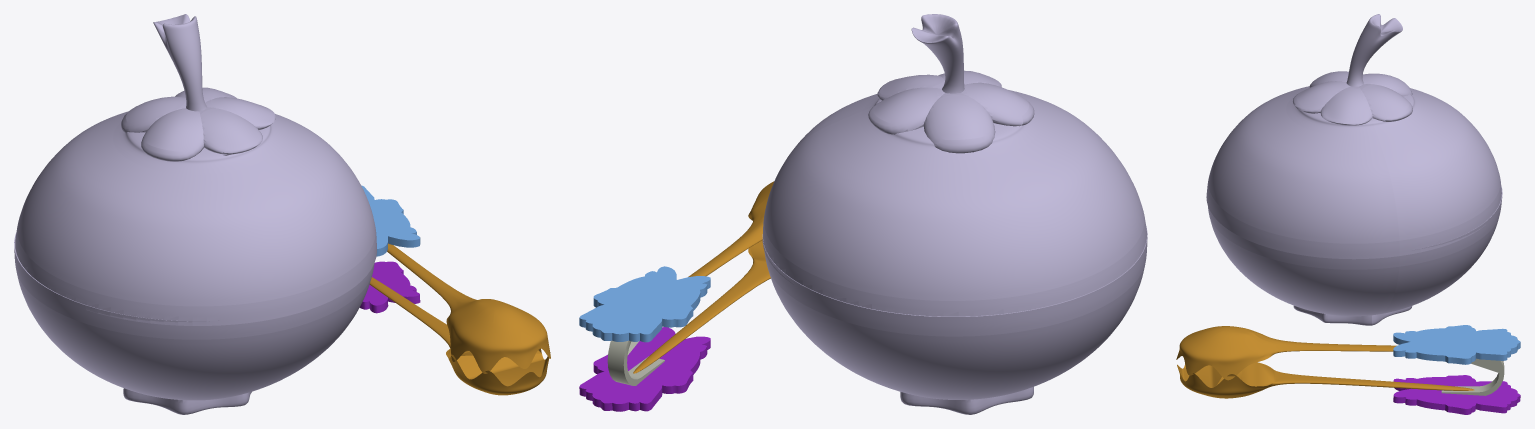
3 views of the same model, side by side, from view 1: azimuth 30°, elevation 25°; view 2: azimuth 150°, elevation 25°; view 3: azimuth 270°, elevation 25° (orthographic). The views are drawn at different scales.
Parts seen in each view (by area): view 1: split_parent_0, split_parent_4, polySurface1_blinn3_0, polySurface2_blinn3_0; view 2: split_parent_0, polySurface1_blinn3_0, polySurface2_blinn3_0, split_parent_4, polySurface3_lambert1_0; view 3: split_parent_0, split_parent_4, polySurface1_blinn3_0, polySurface2_blinn3_0, polySurface3_lambert1_0.
Part boxes in pixels (<box>): split_parent_0: <box>14,14,376,414</box>; split_parent_4: <box>369,243,550,395</box>; polySurface1_blinn3_0: <box>361,185,420,256</box>; polySurface2_blinn3_0: <box>359,261,420,313</box>; split_parent_0: <box>762,14,1147,414</box>; polySurface1_blinn3_0: <box>579,266,710,342</box>; polySurface2_blinn3_0: <box>579,327,710,411</box>; split_parent_4: <box>633,181,774,373</box>; polySurface3_lambert1_0: <box>607,340,664,385</box>; split_parent_0: <box>1206,14,1502,325</box>; split_parent_4: <box>1176,326,1474,398</box>; polySurface1_blinn3_0: <box>1393,325,1520,364</box>; polySurface2_blinn3_0: <box>1393,375,1520,414</box>; polySurface3_lambert1_0: <box>1441,358,1504,395</box>.
Size of the model in its own units: 1 by 0.8052 by 0.8633.
